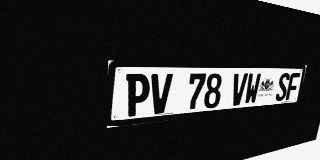7: (185, 73, 207, 111)
8: (203, 73, 223, 109)
F: (285, 73, 300, 100)
P: (125, 74, 151, 117)
S: (275, 73, 290, 101)
V: (149, 74, 173, 115), (230, 73, 248, 106)
W: (244, 73, 261, 105)
